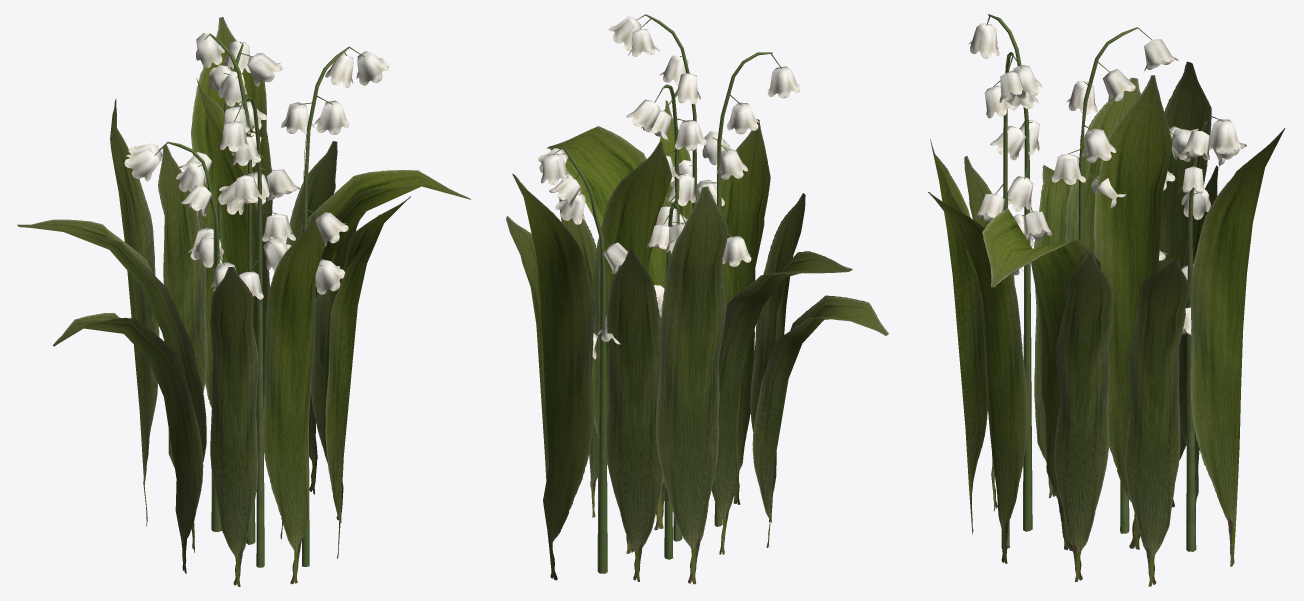
Rendered from Convallaria_Majalis_Spring_Adult.glb.
The picture shows the model from 3 angles, left to right: view 1: azimuth 30°, elevation 25°; view 2: azimuth 150°, elevation 25°; view 3: azimuth 270°, elevation 25°; orthographic projection. The views are drawn at different scales.
Parts seen in each view (by area): view 1: Convallaria_Majalis_Spring_Adult__LOD3; view 2: Convallaria_Majalis_Spring_Adult__LOD3; view 3: Convallaria_Majalis_Spring_Adult__LOD3.
Boxes of the visible parts, <box> form: Convallaria_Majalis_Spring_Adult__LOD3: <box>17,17,470,586</box>; Convallaria_Majalis_Spring_Adult__LOD3: <box>506,14,888,584</box>; Convallaria_Majalis_Spring_Adult__LOD3: <box>928,14,1285,586</box>.
Bounding box in the file's own units: 0.1998 × 0.2468 × 0.159.
Materials: 2 (2 with a texture image).
